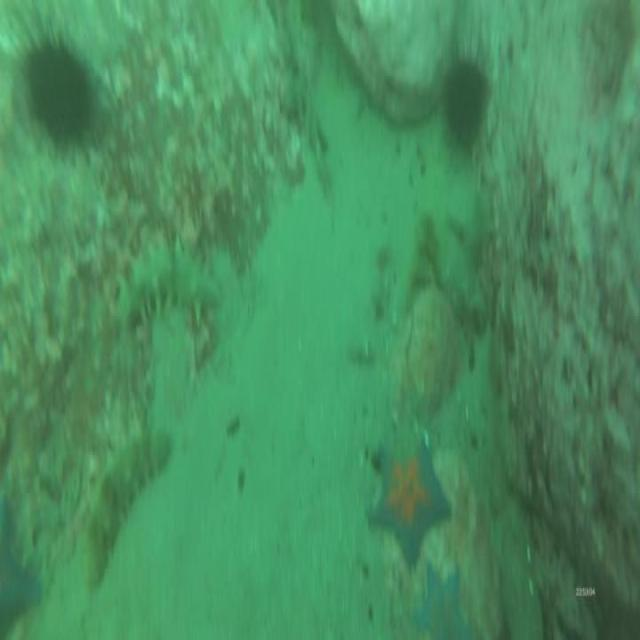echinus: (21, 41, 98, 139), (444, 60, 486, 145)
holothurian: (85, 423, 171, 592), (112, 251, 225, 318)
starfish: (366, 438, 451, 566), (408, 566, 468, 637)
